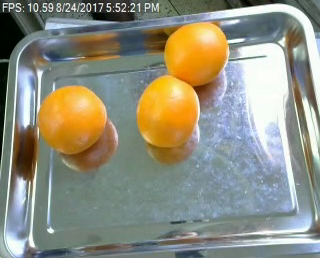Orange: (37, 83, 106, 153), (135, 74, 199, 148), (162, 21, 229, 85)
